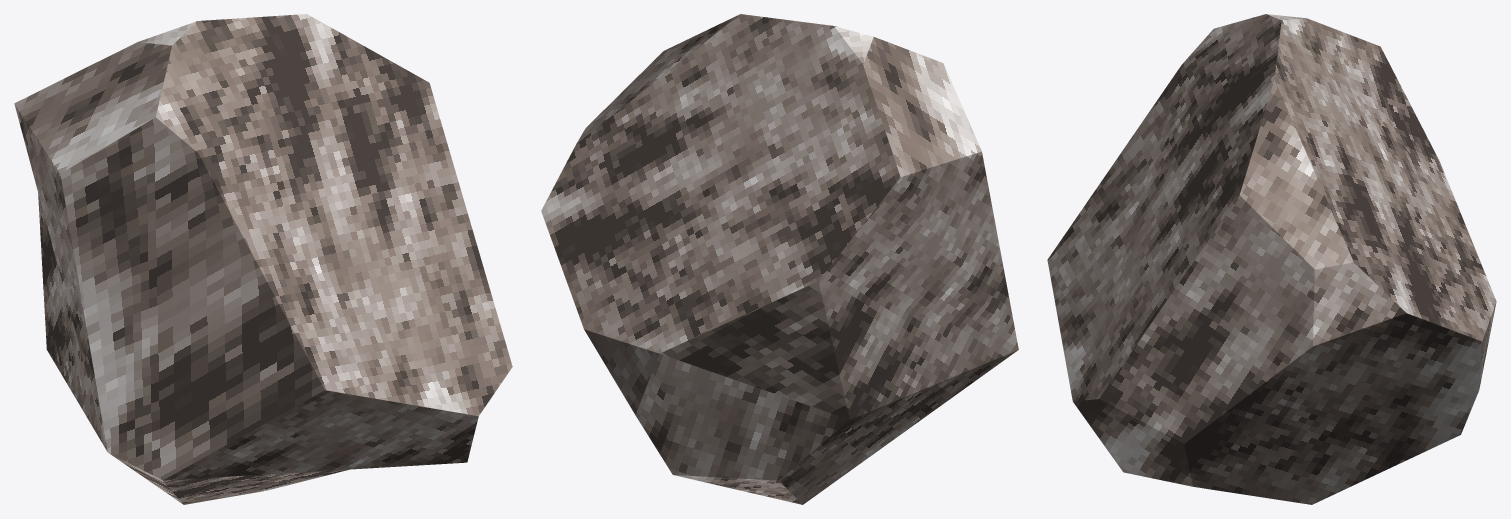
Rendered from rock_2.fbx.
The picture shows the model from 3 angles, left to right: view 1: azimuth 30°, elevation 25°; view 2: azimuth 150°, elevation 25°; view 3: azimuth 270°, elevation 25°; orthographic projection. The views are drawn at different scales.
Visible parts, largest first — view 1: rock_2_LOD0; view 2: rock_2_LOD0; view 3: rock_2_LOD0.
Boxes of the visible parts, x1=… form: rock_2_LOD0: x1=14, y1=14, x2=512, y2=504; rock_2_LOD0: x1=541, y1=14, x2=1018, y2=504; rock_2_LOD0: x1=1047, y1=14, x2=1496, y2=504.
Size of what is drawn, in the model's own units: 165 by 191 by 174.
